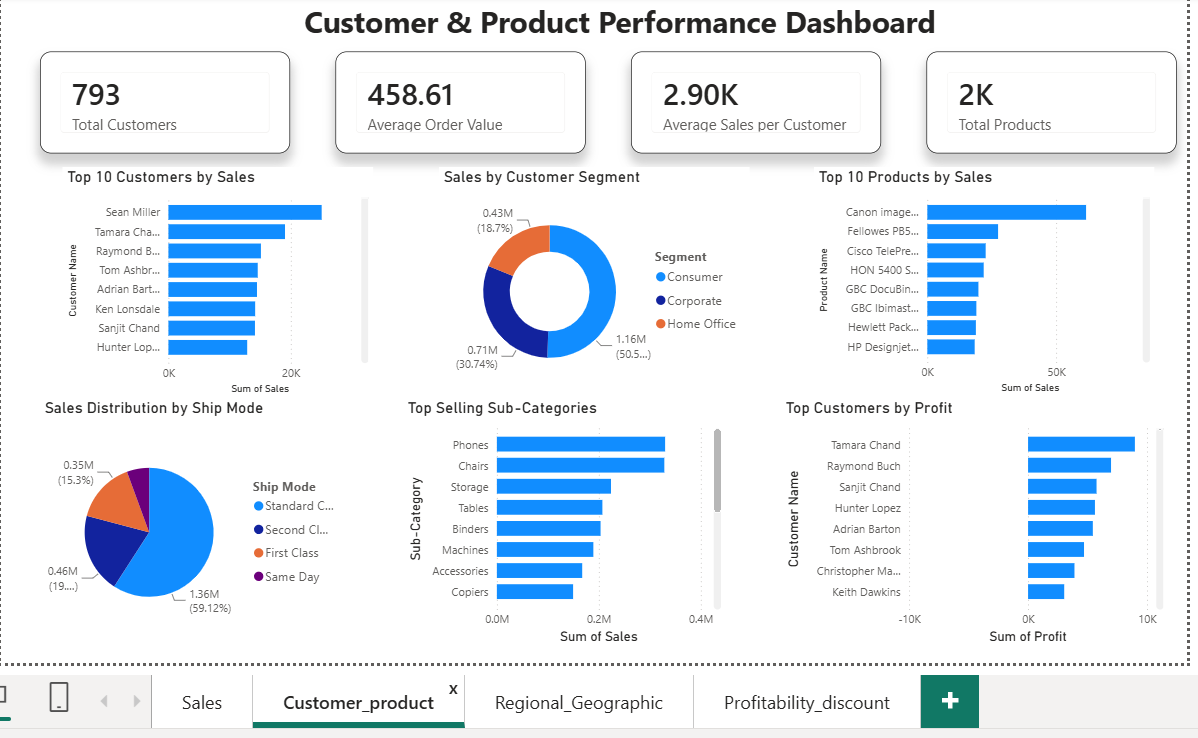

The dashboard page shown, as its layout file describes it:
{"tool":"powerbi","page":{"name":"Customer_product","canvas":[1280,720],"ordinal":1},"visuals":[{"type":"textbox","box":[322.2,0,728.7,59.9],"z":0},{"type":"cardVisual","fields":{"Data":["Orders.Total Customers"]},"box":[42.1,59.9,270,110],"z":0,"group":"g1"},{"type":"donutChart","title":"Sales by Customer Segment","fields":{"Category":["Orders.Segment"],"Y":["Sum(Orders.Sales)"]},"box":[472,184.6,335.2,248.7],"z":0,"group":"g2"},{"type":"group","id":"g1","title":"Group 1","box":[42.1,59.9,1226.4,110],"z":1000},{"type":"cardVisual","fields":{"Data":["Orders.Average Order Value"]},"box":[361.3,59.9,270,110],"z":1000,"group":"g1"},{"type":"clusteredBarChart","title":"Top 10 Customers by Sales","fields":{"Category":["Orders.Customer Name"],"Y":["Sum(Orders.Sales)"]},"box":[66.4,184.6,335.2,249.4],"z":1000,"group":"g2"},{"type":"cardVisual","fields":{"Data":["Orders.Average Sales per Customer"]},"box":[679.9,59.9,270,110],"z":2000,"group":"g1"},{"type":"group","id":"g2","title":"Group 2","box":[66.4,184.6,1178.8,249.4],"z":2000},{"type":"clusteredBarChart","title":"Top 10 Products by Sales","fields":{"Category":["Orders.Product Name"],"Y":["Sum(Orders.Sales)"]},"box":[877.6,184.6,367.6,248.7],"z":2000,"group":"g2"},{"type":"cardVisual","fields":{"Data":["Orders.Total Products"]},"box":[998.5,59.9,270,110],"z":3000,"group":"g1"},{"type":"group","id":"g3","title":"Group 3","box":[42.1,434,1217.7,270],"z":3000},{"type":"clusteredBarChart","title":"Top Selling Sub-Categories","fields":{"Y":["Sum(Orders.Sales)"],"Category":["Orders.Sub-Category"]},"box":[434,434,348.1,270],"z":3000,"group":"g3"},{"type":"pieChart","title":"Sales Distribution by Ship Mode","fields":{"Y":["Sum(Orders.Sales)"],"Category":["Orders.Ship Mode"]},"box":[42.1,434,331.9,270],"z":4000,"group":"g3"},{"type":"clusteredBarChart","title":"Top Customers by Profit","fields":{"Y":["Sum(Orders.Profit)"],"Category":["Orders.Customer Name"]},"box":[842,434,417.8,270],"z":6002,"group":"g3"}]}

Visuals, with their boxes on the page's 1280x720 design canvas (x1, y1, x2, y2). These are canvas units, not pixel positions in the 1198x738 screenshot, which may show the page scaled, cropped or inside an application window:
textbox: detection(322, 0, 1051, 60)
cardVisual - Orders.Total Customers: detection(42, 60, 312, 170)
"Sales by Customer Segment" donutChart: detection(472, 185, 807, 433)
"Group 1" group: detection(42, 60, 1268, 170)
cardVisual - Orders.Average Order Value: detection(361, 60, 631, 170)
"Top 10 Customers by Sales" clusteredBarChart: detection(66, 185, 402, 434)
cardVisual - Orders.Average Sales per Customer: detection(680, 60, 950, 170)
"Group 2" group: detection(66, 185, 1245, 434)
"Top 10 Products by Sales" clusteredBarChart: detection(878, 185, 1245, 433)
cardVisual - Orders.Total Products: detection(998, 60, 1268, 170)
"Group 3" group: detection(42, 434, 1260, 704)
"Top Selling Sub-Categories" clusteredBarChart: detection(434, 434, 782, 704)
"Sales Distribution by Ship Mode" pieChart: detection(42, 434, 374, 704)
"Top Customers by Profit" clusteredBarChart: detection(842, 434, 1260, 704)
